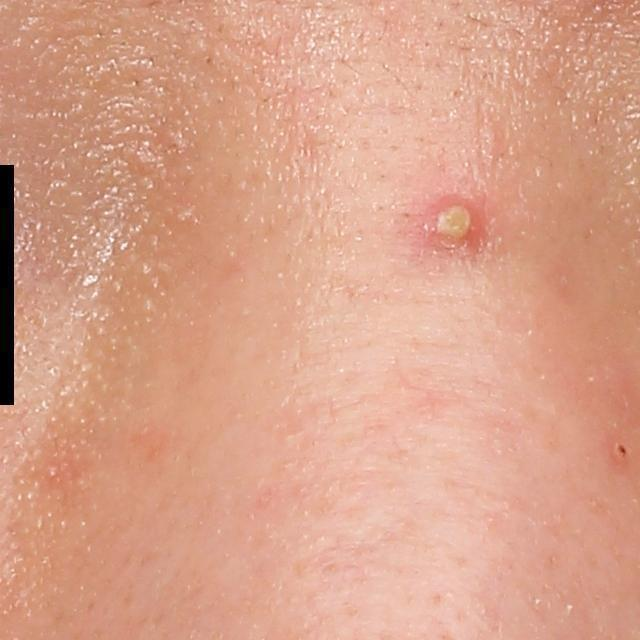pustule: (418, 198, 486, 263)
